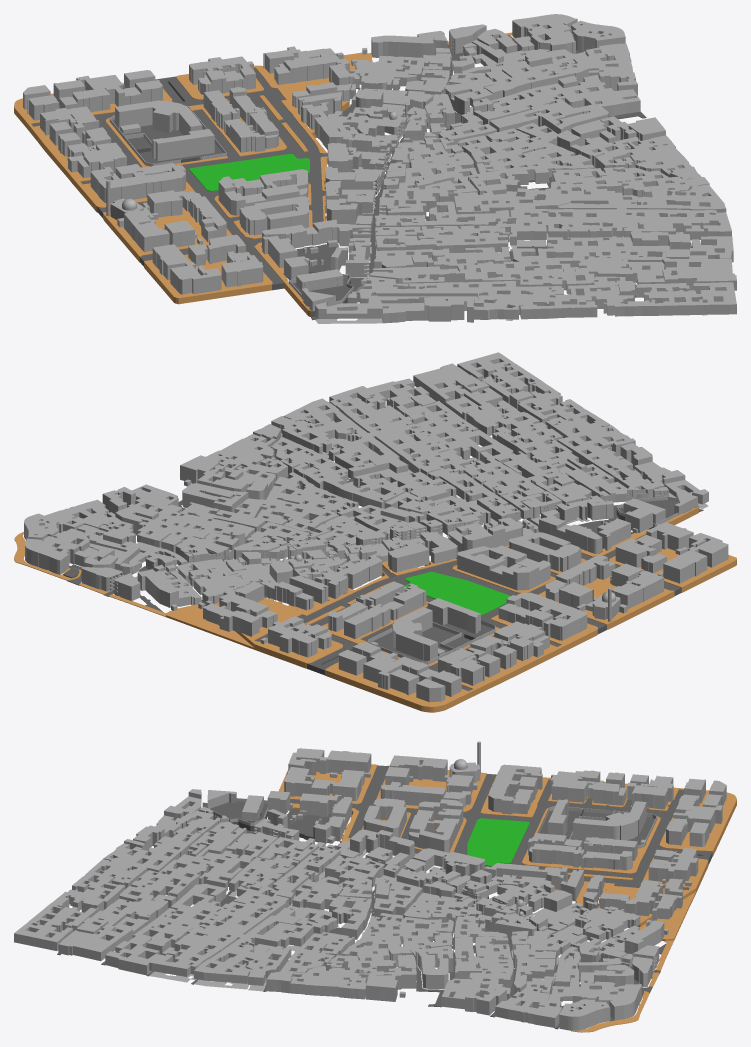
Rendered from midan.glb.
3 views of the same model, one above another, from view 1: azimuth 30°, elevation 25°; view 2: azimuth 150°, elevation 25°; view 3: azimuth 270°, elevation 25° (orthographic). The views are drawn at different scales.
Visible parts, largest first — view 1: 3D Model of the land001, 3D Model of the land, Building 21, Building 22, Layer:0, Object003, Building 24, Object017, Building 32, Building 37, Building 040, Building 20 (+11 smaller); view 2: 3D Model of the land001, 3D Model of the land, Building 21, Building 22, Object003, Layer:0, Building 24, Object017, Building 040, Building 37, Building 32, Object004 (+7 smaller); view 3: 3D Model of the land001, 3D Model of the land, Building 21, Building 22, Layer:0, Object003, Building 24, Object017, Building 37, Building 040, Building 32, Building 27 (+8 smaller).
Boxes of the visible parts, <box> form: 3D Model of the land001: <box>23,35,434,294</box>; 3D Model of the land: <box>315,14,733,323</box>; Building 21: <box>347,246,736,319</box>; Building 22: <box>375,176,731,252</box>; Layer:0: <box>31,35,692,320</box>; Object003: <box>14,32,515,316</box>; Building 24: <box>381,165,549,216</box>; Object017: <box>189,154,309,191</box>; Building 32: <box>394,137,473,168</box>; Building 37: <box>444,64,552,106</box>; Building 040: <box>452,42,586,75</box>; Building 20: <box>314,298,382,318</box>; 3D Model of the land001: <box>137,500,728,702</box>; 3D Model of the land: <box>24,375,708,575</box>; Building 21: <box>413,352,668,505</box>; Building 22: <box>271,386,561,521</box>; Object003: <box>14,506,736,712</box>; Layer:0: <box>63,409,703,690</box>; Building 24: <box>323,471,490,535</box>; Object017: <box>404,571,510,615</box>; Building 040: <box>77,524,187,575</box>; Building 37: <box>137,521,231,562</box>; Building 32: <box>308,515,375,558</box>; Object004: <box>368,496,678,664</box>; 3D Model of the land001: <box>267,741,726,953</box>; 3D Model of the land: <box>76,806,641,1030</box>; Building 21: <box>14,807,277,961</box>; Building 22: <box>149,837,340,985</box>; Layer:0: <box>57,765,712,1029</box>; Object003: <box>279,764,736,1032</box>; Building 24: <box>292,855,384,939</box>; Object017: <box>467,818,529,866</box>; Building 37: <box>511,931,570,981</box>; Building 040: <box>548,944,620,1001</box>; Building 32: <box>403,892,476,919</box>; Building 27: <box>374,875,422,916</box>.
Bounding box in the file's own units: 575 × 37.5 × 654.
